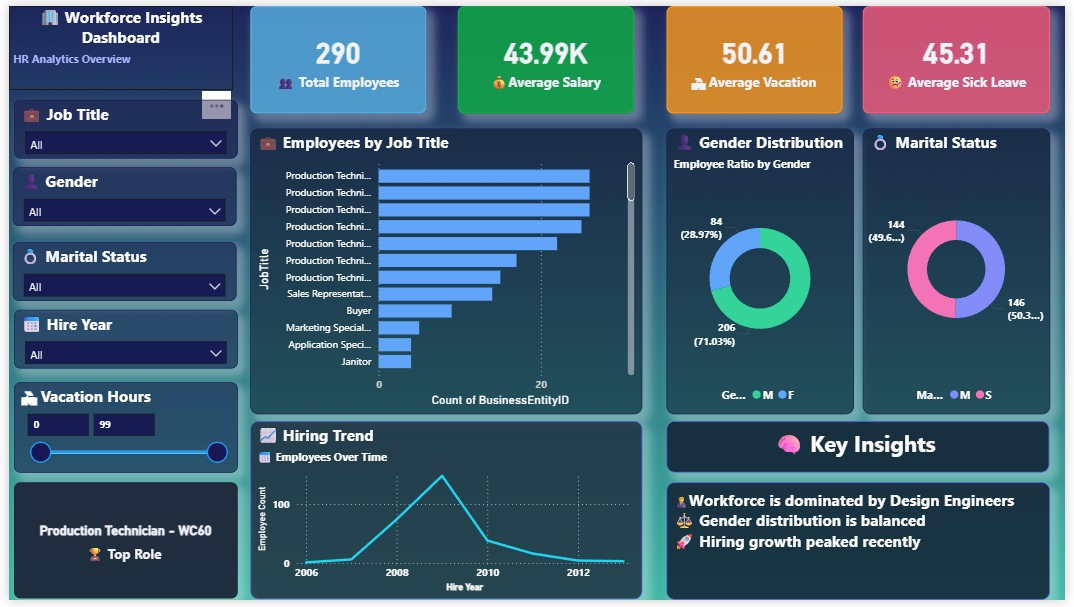

Layout of this report page (visuals, bound fields, positions):
{"tool":"powerbi","page":{"name":"Page 1","canvas":[1280,720],"ordinal":0},"visuals":[{"type":"card","fields":{"Values":["Count(HumanResources Employee.BusinessEntityID)"]},"box":[292,0,213.5,130.1],"z":0},{"type":"textbox","title":"🏢 Workforce Insights Dashboard","box":[0,0,271.2,101.8],"z":1000},{"type":"card","fields":{"Values":["Avg(HumanResources Employee.Salary)"]},"box":[543.6,0,213.5,130.1],"z":2000},{"type":"card","fields":{"Values":["Avg(HumanResources Employee.VacationHours)"]},"box":[797.6,0,213.5,130.1],"z":3000},{"type":"card","fields":{"Values":["Avg(HumanResources Employee.SickLeaveHours)"]},"box":[1034.8,0,227.3,130.3],"z":4000},{"type":"slicer","title":"💼 Job Title","fields":{"Values":["HumanResources Employee.JobTitle"]},"box":[6.1,112.9,271.2,71.2],"z":5000},{"type":"slicer","title":"👤 Gender","fields":{"Values":["HumanResources Employee.Gender"]},"box":[4.9,195.1,271.2,71.2],"z":6000},{"type":"slicer","title":"💍 Marital Status","fields":{"Values":["HumanResources Employee.MaritalStatus"]},"box":[4.9,285.9,271.2,71.2],"z":7000},{"type":"slicer","title":"📅 Hire Year","fields":{"Values":["HumanResources Employee.HireDate"]},"box":[6.1,368.1,271.2,71.2],"z":8000},{"type":"slicer","title":"🏖 Vacation Hours","fields":{"Values":["HumanResources Employee.VacationHours"]},"box":[6.1,456.4,271.2,109.2],"z":9000},{"type":"clusteredBarChart","title":"💼 Employees by Job Title","fields":{"Category":["HumanResources Employee.JobTitle"],"Y":["Count(HumanResources Employee.BusinessEntityID)"]},"box":[292,148.5,474.8,346],"z":10000},{"type":"donutChart","title":"👤 Gender Distribution","fields":{"Category":["HumanResources Employee.Gender"],"Y":["CountNonNull(HumanResources Employee.BusinessEntityID)"]},"box":[797.6,148.5,227,346],"z":11000},{"type":"donutChart","title":"💍 Marital Status","fields":{"Category":["HumanResources Employee.MaritalStatus"],"Y":["CountNonNull(HumanResources Employee.BusinessEntityID)"]},"box":[1034.4,148.5,227,346],"z":12000},{"type":"lineChart","title":"📈 Hiring Trend","fields":{"Y":["CountNonNull(HumanResources Employee.BusinessEntityID)"],"Category":["HumanResources Employee.HireDate.Variation.Date Hierarchy.Year"]},"box":[291.9,503.5,475.6,216.3],"z":13000},{"type":"textbox","box":[797.6,503.1,463.8,62.6],"z":14000},{"type":"textbox","box":[797,577.3,465.2,142.4],"z":15000},{"type":"card","title":"🏆 Top Role  ","fields":{"Values":["HumanResources Employee.Top Role"]},"box":[6.1,577.9,271.2,141.1],"z":16000}]}

Visuals, with their boxes in screenshot pixels (x1, y1, x2, y2), scaled from the page's 1280x720 canvas onto the 1074x607 screenshot:
card - Count(HumanResources Employee.BusinessEntityID): [left=245, top=0, right=424, bottom=110]
"🏢 Workforce Insights Dashboard" textbox: [left=0, top=0, right=228, bottom=86]
card - Avg(HumanResources Employee.Salary): [left=456, top=0, right=635, bottom=110]
card - Avg(HumanResources Employee.VacationHours): [left=669, top=0, right=848, bottom=110]
card - Avg(HumanResources Employee.SickLeaveHours): [left=868, top=0, right=1059, bottom=110]
"💼 Job Title" slicer: [left=5, top=95, right=233, bottom=155]
"👤 Gender" slicer: [left=4, top=164, right=232, bottom=225]
"💍 Marital Status" slicer: [left=4, top=241, right=232, bottom=301]
"📅 Hire Year" slicer: [left=5, top=310, right=233, bottom=370]
"🏖 Vacation Hours" slicer: [left=5, top=385, right=233, bottom=477]
"💼 Employees by Job Title" clusteredBarChart: [left=245, top=125, right=643, bottom=417]
"👤 Gender Distribution" donutChart: [left=669, top=125, right=860, bottom=417]
"💍 Marital Status" donutChart: [left=868, top=125, right=1058, bottom=417]
"📈 Hiring Trend" lineChart: [left=245, top=424, right=644, bottom=606]
textbox: [left=669, top=424, right=1058, bottom=477]
textbox: [left=669, top=487, right=1059, bottom=606]
"🏆 Top Role  " card: [left=5, top=487, right=233, bottom=606]
